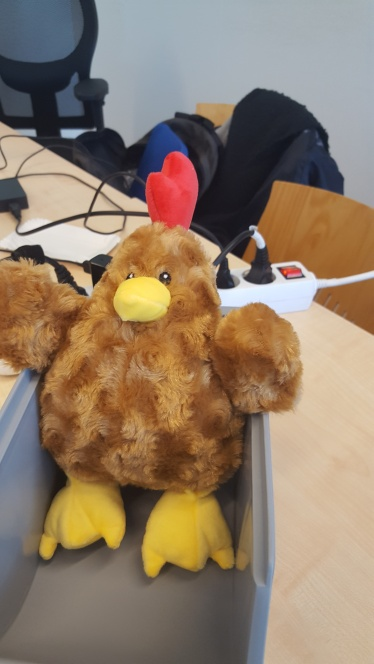chicken_front: (3, 151, 304, 572)
